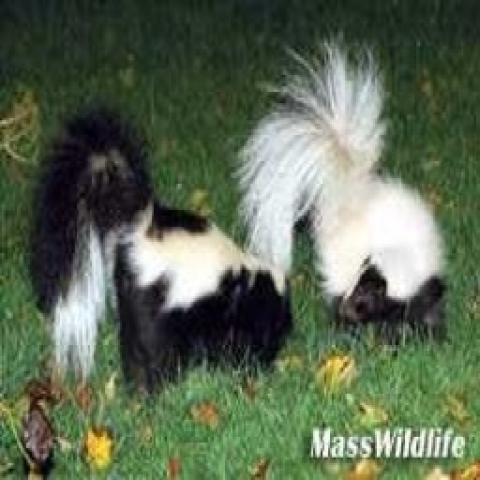small_animal: (31, 113, 298, 385), (246, 77, 456, 346)
